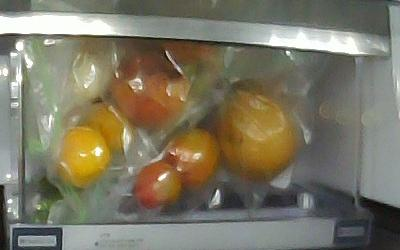peach_vinyl: (109, 50, 189, 130)
pear_vinyl: (215, 91, 297, 182)
tangerine_vinyl: (52, 129, 111, 187), (79, 102, 132, 153)
tomato_vinyl: (164, 127, 218, 186), (134, 163, 183, 207)
